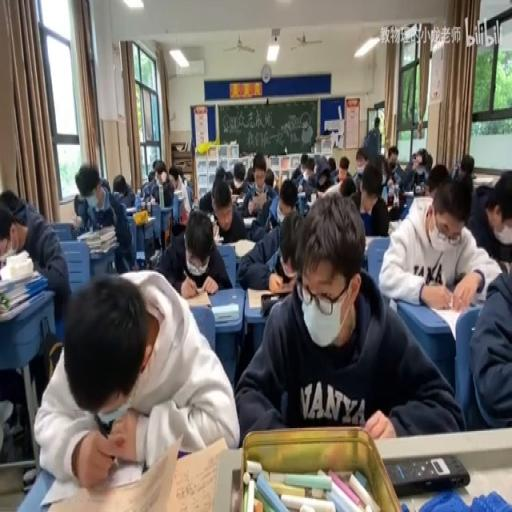calculator: (426, 303, 477, 343), (246, 284, 278, 308), (212, 300, 238, 322), (76, 226, 114, 240), (233, 236, 257, 258), (364, 232, 389, 253), (183, 289, 212, 307), (90, 244, 116, 258), (471, 175, 496, 186), (132, 215, 155, 226), (212, 219, 221, 242), (242, 215, 256, 226), (387, 219, 398, 233), (173, 188, 185, 199), (125, 205, 137, 215), (233, 195, 244, 205), (402, 190, 414, 198), (309, 192, 316, 205), (297, 186, 304, 196)
paper: (35, 267, 235, 488), (378, 168, 499, 310), (0, 192, 69, 338), (467, 256, 512, 430), (74, 164, 136, 273), (154, 206, 228, 296), (237, 191, 300, 287), (350, 160, 392, 238), (197, 168, 231, 215), (399, 145, 431, 192), (146, 158, 174, 206), (380, 145, 402, 191), (0, 215, 21, 260), (0, 189, 25, 222), (427, 164, 450, 194), (362, 125, 380, 159), (226, 161, 245, 193), (387, 189, 406, 219), (278, 183, 296, 212), (268, 190, 282, 224), (338, 176, 357, 199), (252, 154, 266, 184), (326, 155, 338, 182), (460, 154, 474, 176), (112, 173, 126, 195), (74, 194, 86, 216), (291, 165, 303, 186), (450, 159, 460, 178), (168, 170, 178, 188), (245, 166, 254, 185), (299, 154, 308, 172), (264, 174, 274, 190), (338, 158, 348, 173), (426, 151, 432, 175), (273, 175, 281, 189), (374, 115, 380, 131), (148, 169, 154, 181), (182, 175, 187, 186)
person: (386, 452, 470, 494), (228, 468, 241, 510)
